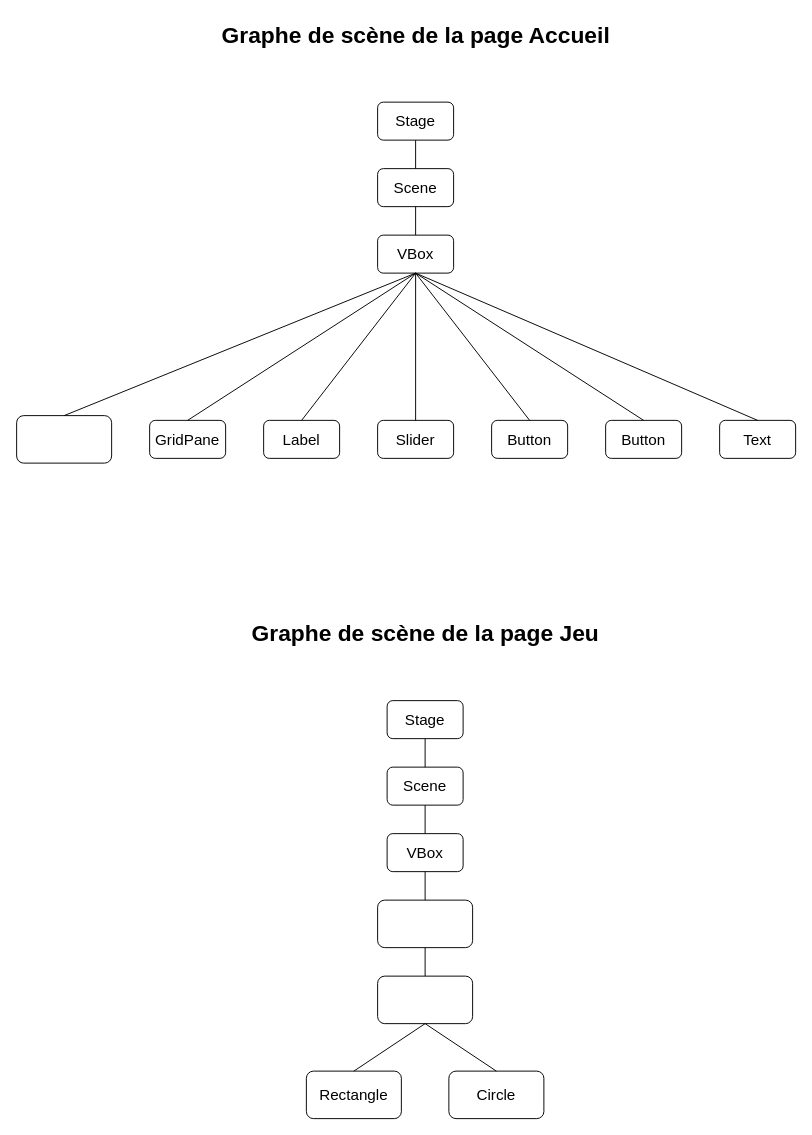
The diagram is 812 pixels wide and 1135 high, and some of its shapes have lost their labels. The shapes that lost their labels are listed below. From the top down, each one's centre as x and y in pixels, then its label:
At (x=64, y=439): "ComboBox".
At (x=425, y=923): "HBox".
At (x=425, y=999): "StackPane".
